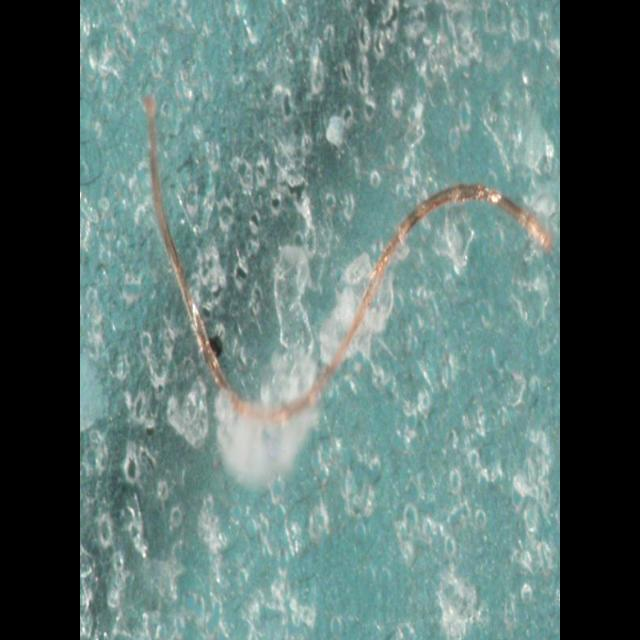Fibre: (142, 94, 552, 432)
